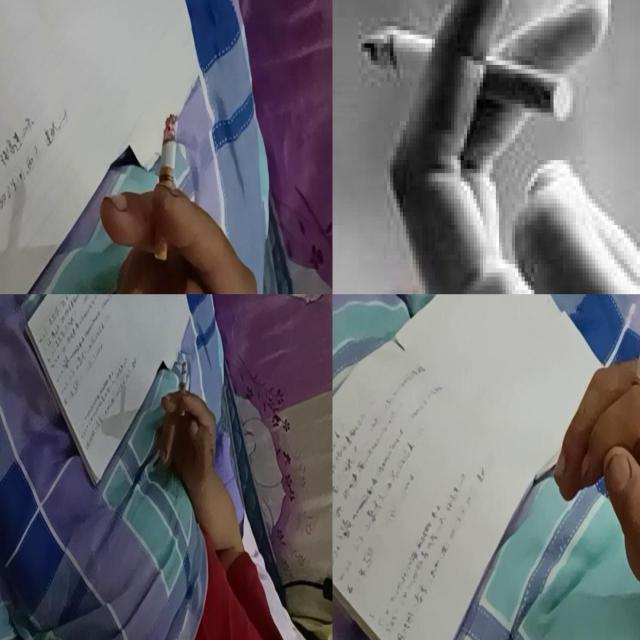smoking: (358, 26, 572, 120), (153, 114, 180, 262), (624, 294, 640, 422), (180, 362, 187, 416)
